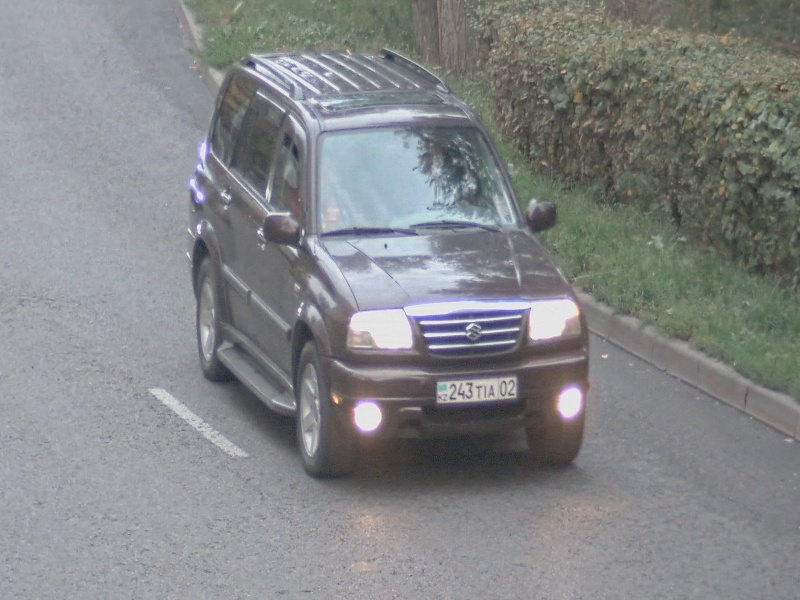plate: (434, 373, 519, 408)
